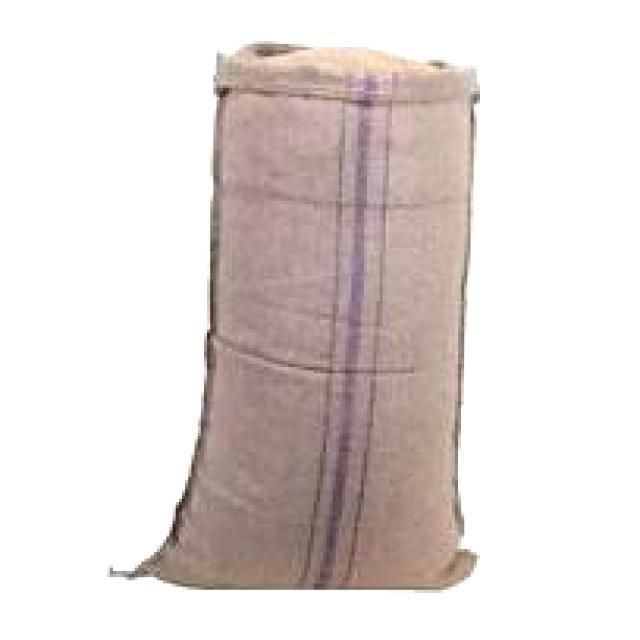gunny_bag: (102, 36, 496, 604)
